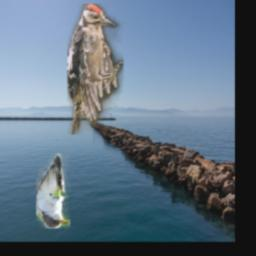Cuckoo: (36, 155, 70, 229)
Woodpecker: (67, 4, 123, 135)
